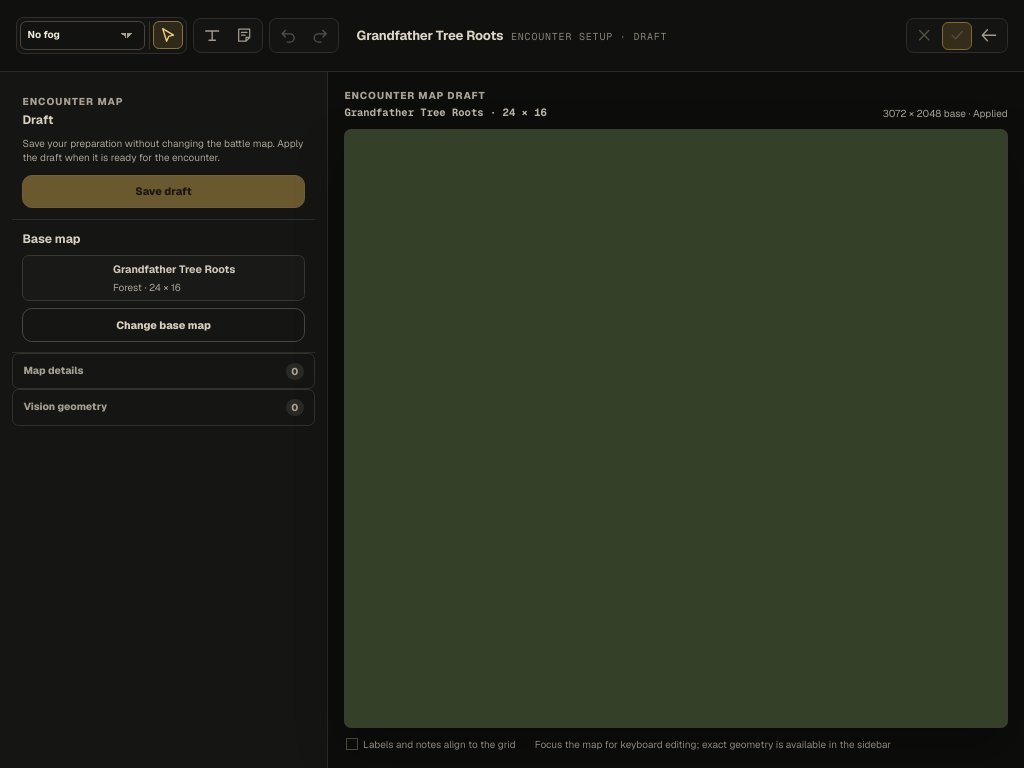
MapWorkshop keyboard-equivalent authoring › creates and re-edits a DM note directly on the map
Click the button named "Add DM note" at (244, 36), box x1=230 y1=22 x2=259 y2=50
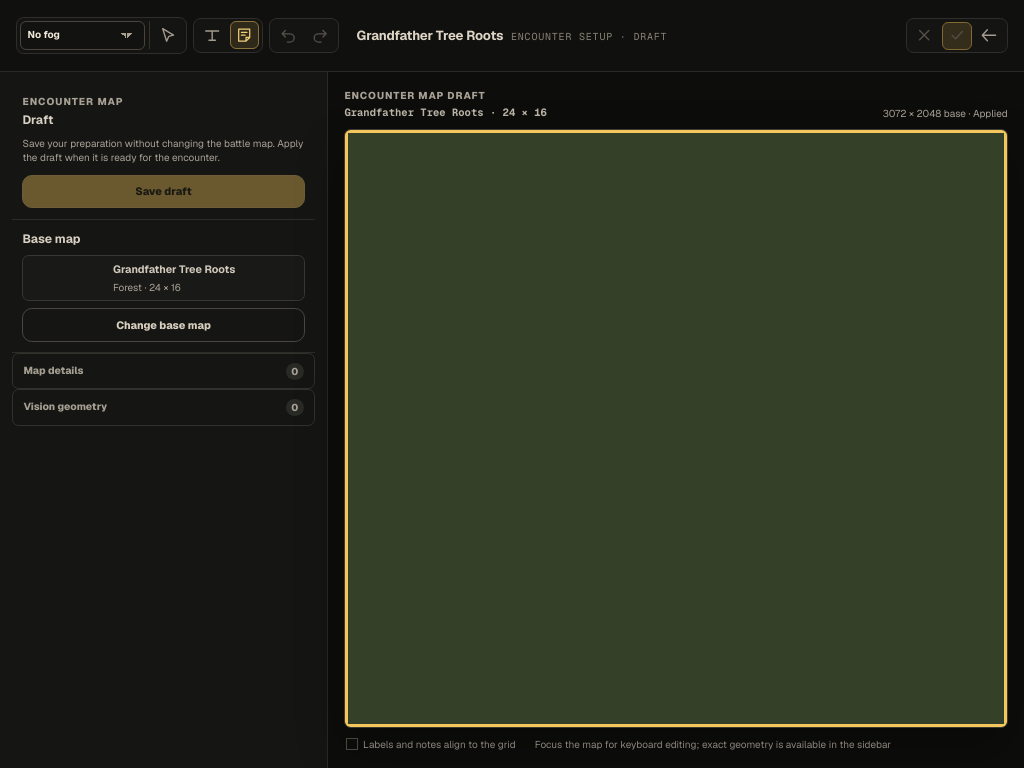
Press Enter
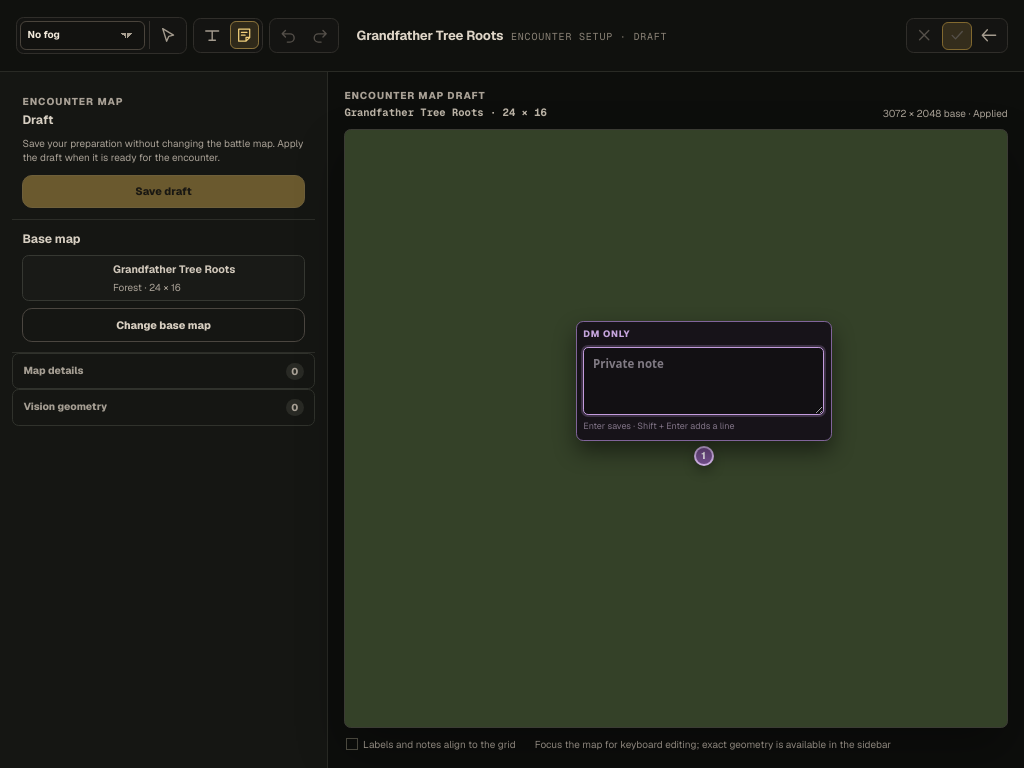
Type "Private clue" into the text box named "DM note text" at (704, 381), box x1=583 y1=347 x2=824 y2=415
Then press Enter
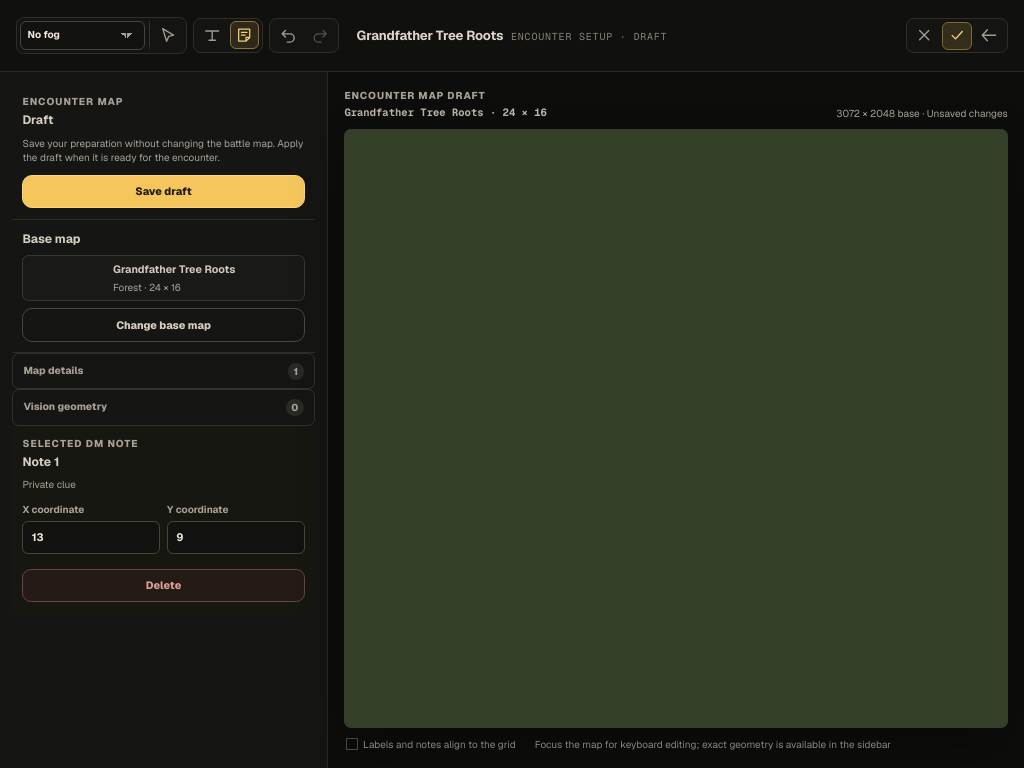
Click the heading "Map details 1" at (53, 370), box x1=23 y1=363 x2=304 y2=380
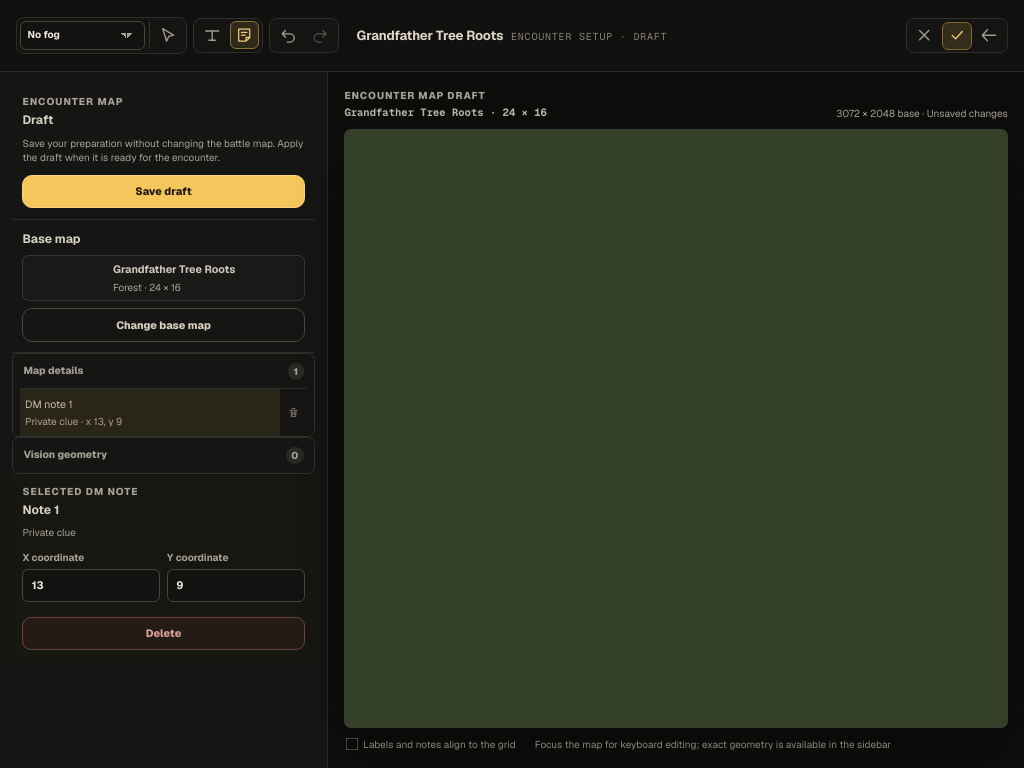
Click the button "DM note 1 Private clue · x 13, y 9" at (150, 413), box x1=20 y1=389 x2=280 y2=436
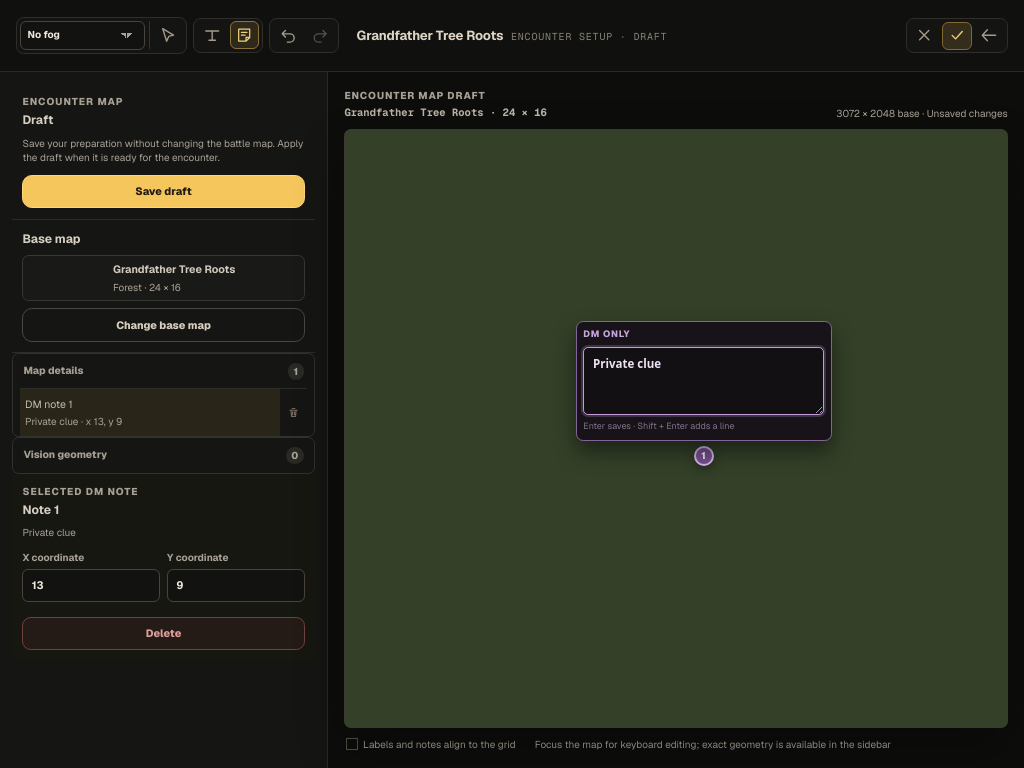
Expected: the text box named "DM note text" holds "Private clue"
Replace the text in the text box named "DM note text" with "Revised private clue" at (704, 381), box x1=583 y1=347 x2=824 y2=415
Then press Enter
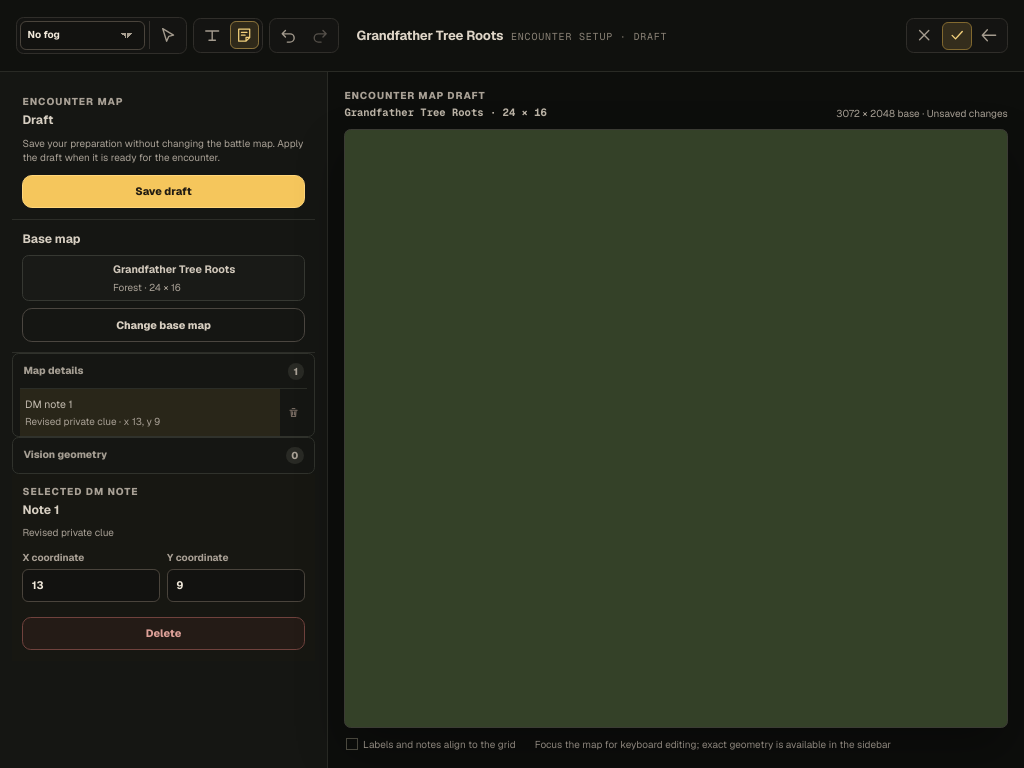
Expected: the button "DM note 1 Revised private clue · x 13, y 9" is shown, x1=20 y1=389 x2=280 y2=436
